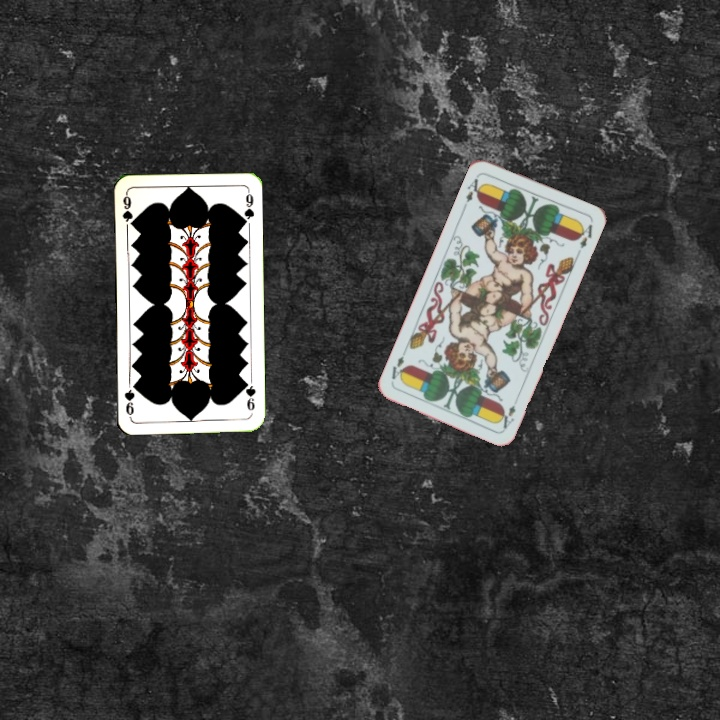EA: (462, 172, 486, 205), (496, 401, 518, 432)
G9: (119, 189, 137, 230), (241, 377, 258, 413)
